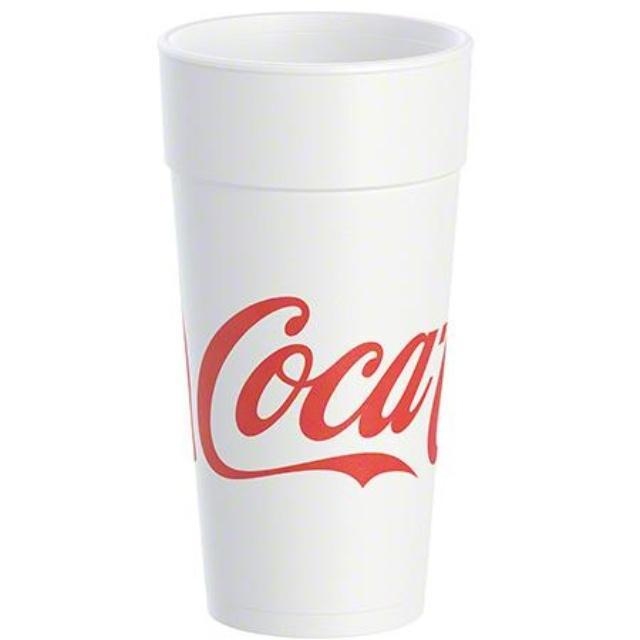paper_cup: (138, 6, 564, 640)
